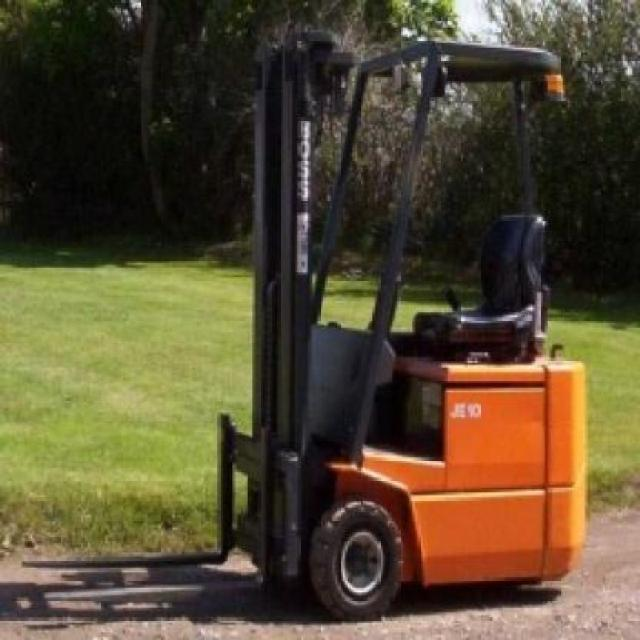forklift: (215, 30, 591, 623)
